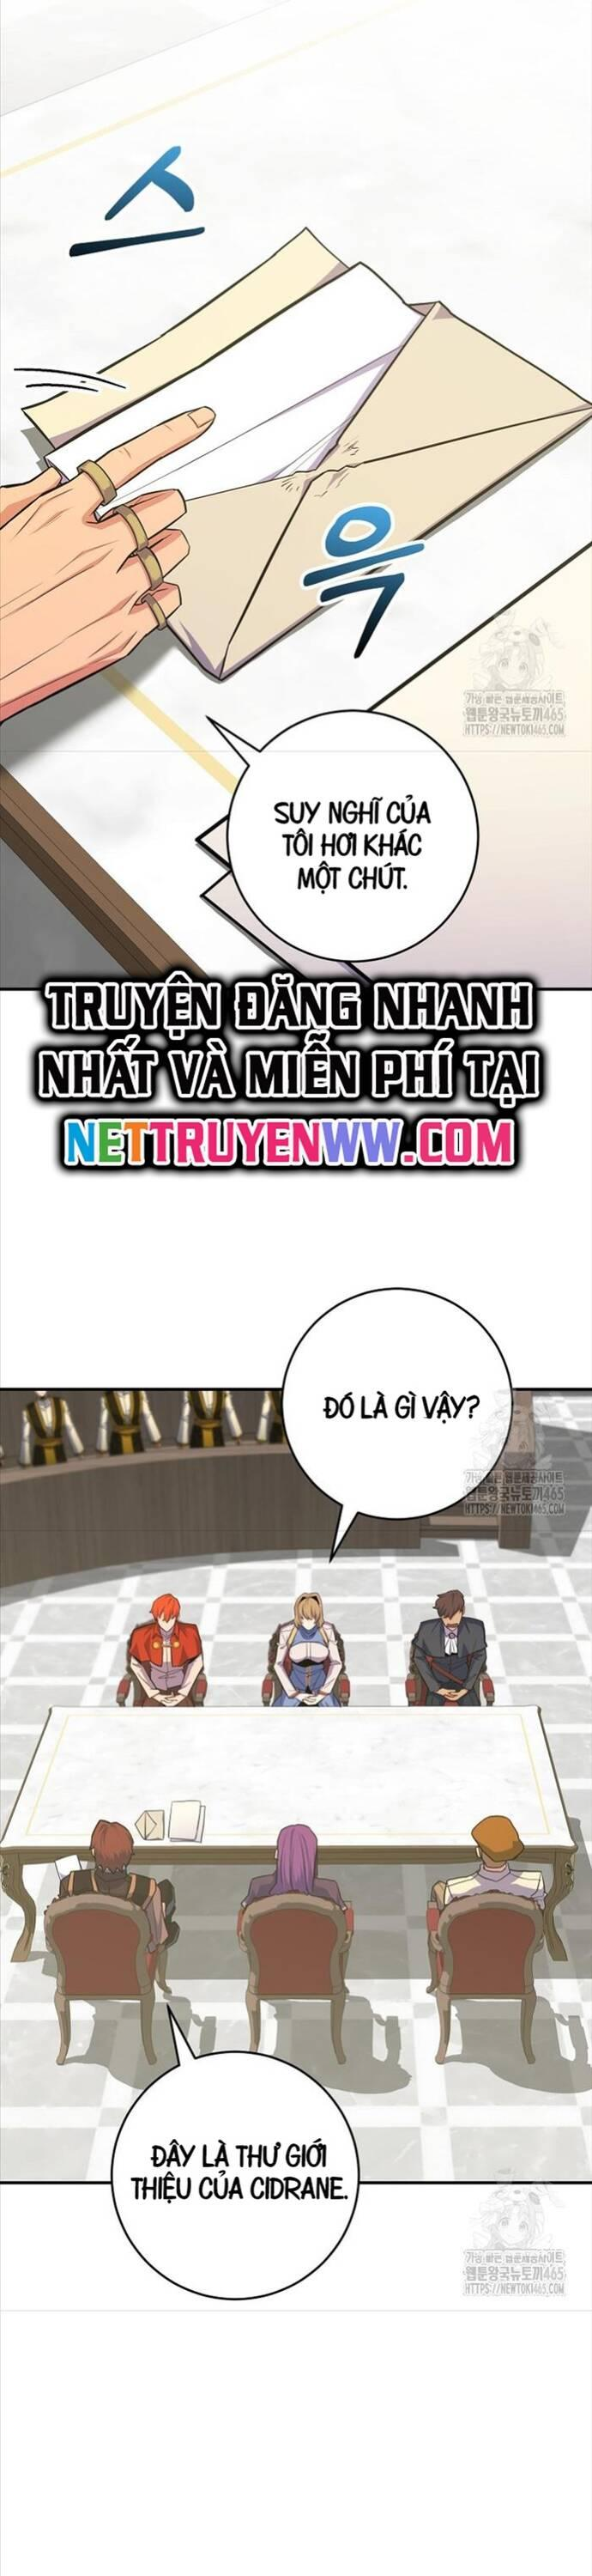quangcao: (30, 961, 553, 1181)
